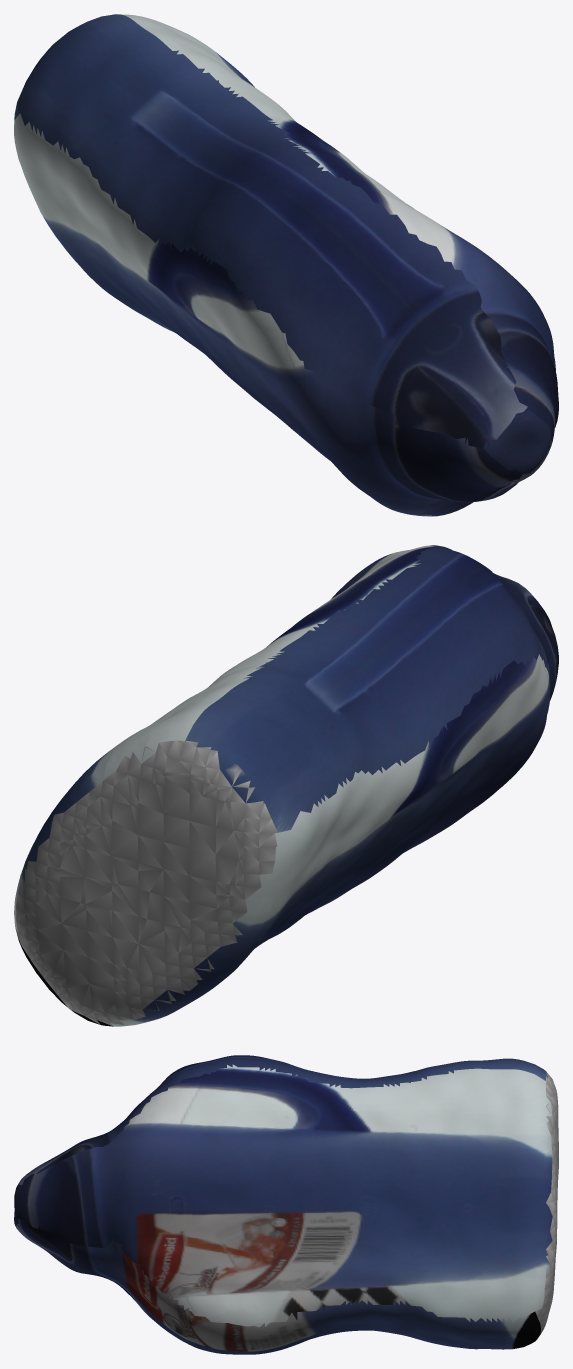
File: model_com.obj
The picture shows the model from 3 angles, top to bottom: view 1: azimuth 30°, elevation 25°; view 2: azimuth 150°, elevation 25°; view 3: azimuth 270°, elevation 25°; orthographic projection. The views are drawn at different scales.
Bounding box in the file's own units: 0.0829 × 0.094 × 0.1875.
